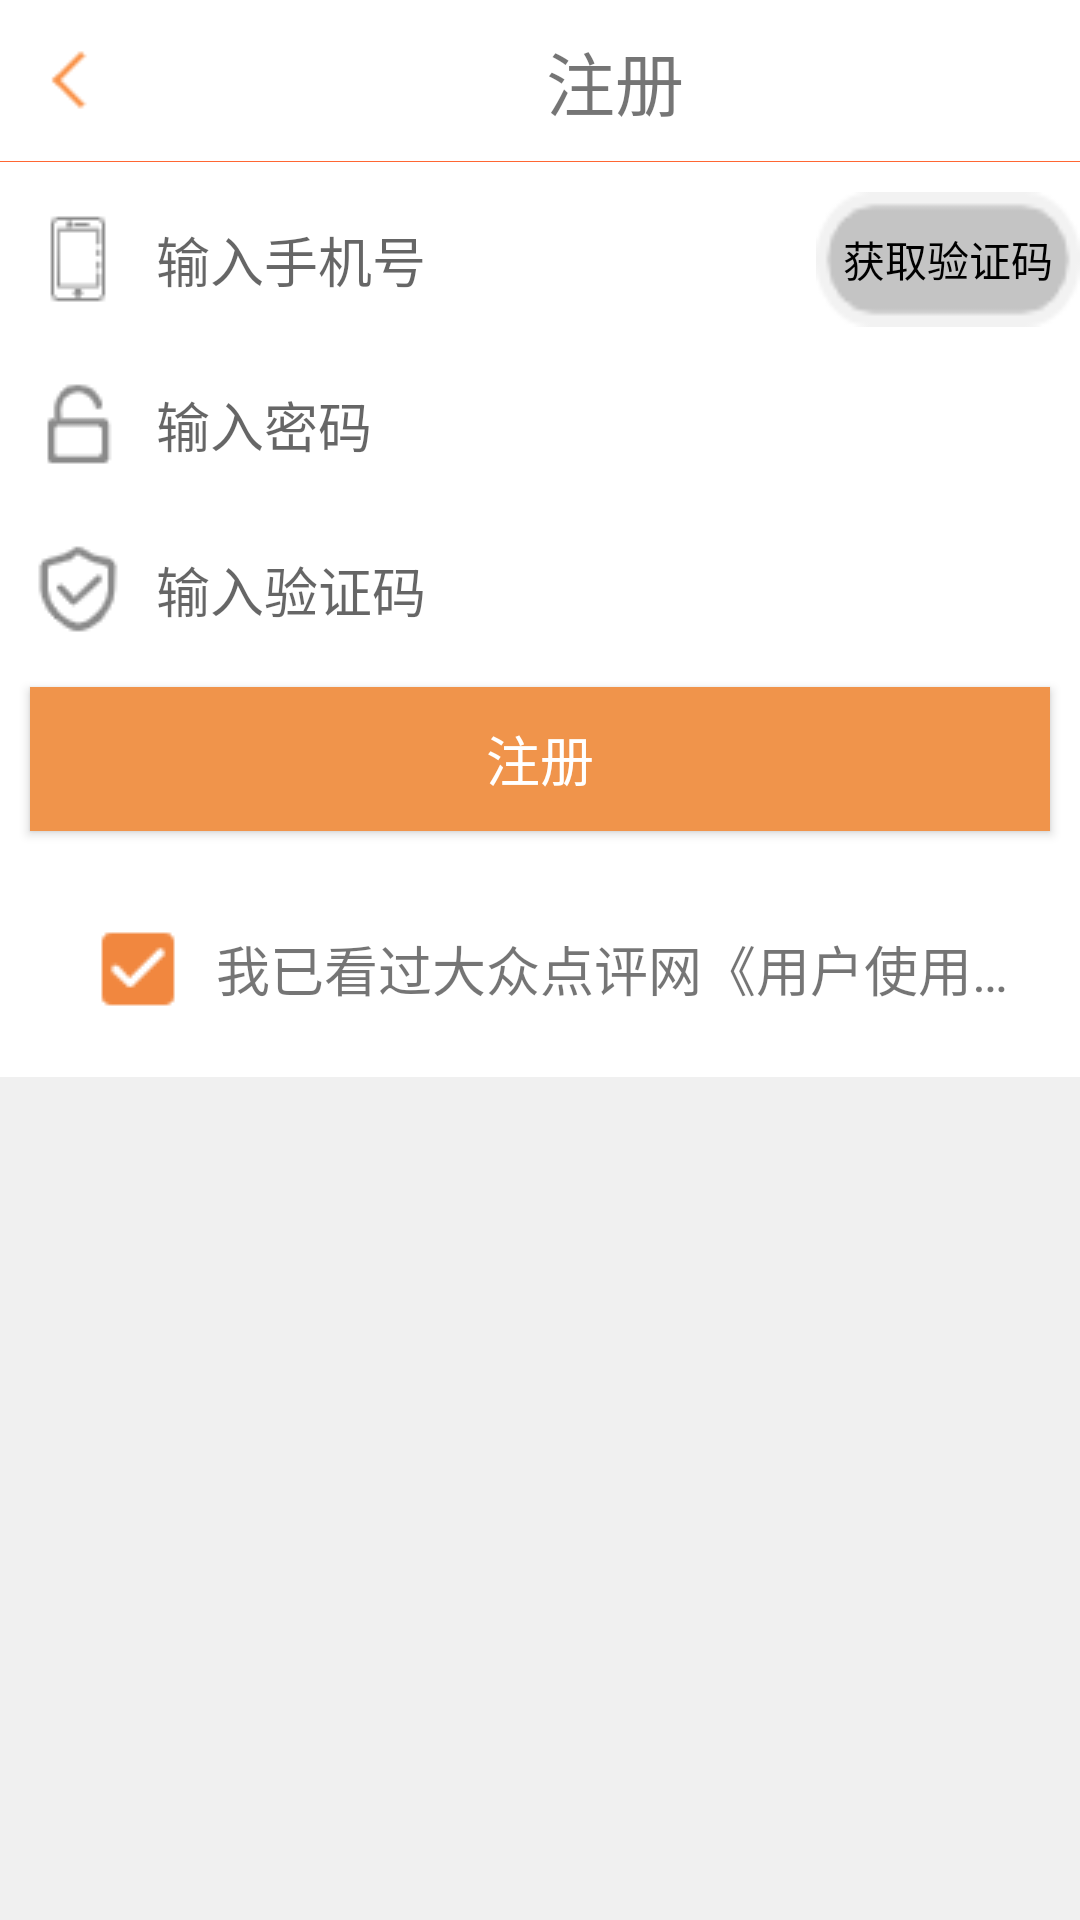

Screen size 1080 x 1920. Icon name, then its center in pixels as (x=x, y=y):
back: (x=69, y=80)
register check: (x=138, y=969)
